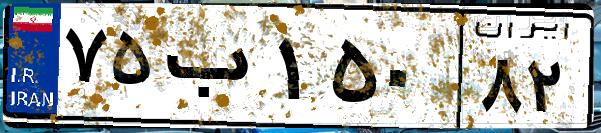0: (385, 28, 445, 110)
1: (270, 28, 330, 110)
2: (525, 38, 570, 115)
5: (330, 28, 385, 110), (110, 28, 158, 98)
7: (57, 26, 110, 100)
8: (475, 38, 525, 113)
ب: (158, 20, 270, 120)
